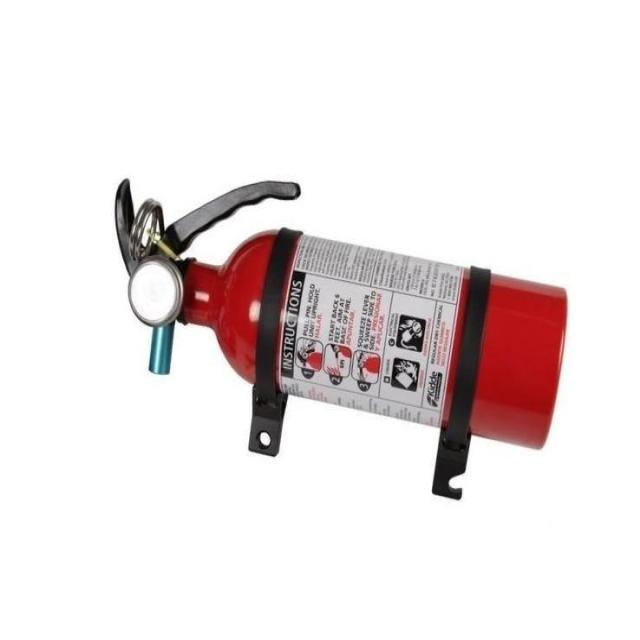fire_extinguisher: (110, 172, 572, 452)
